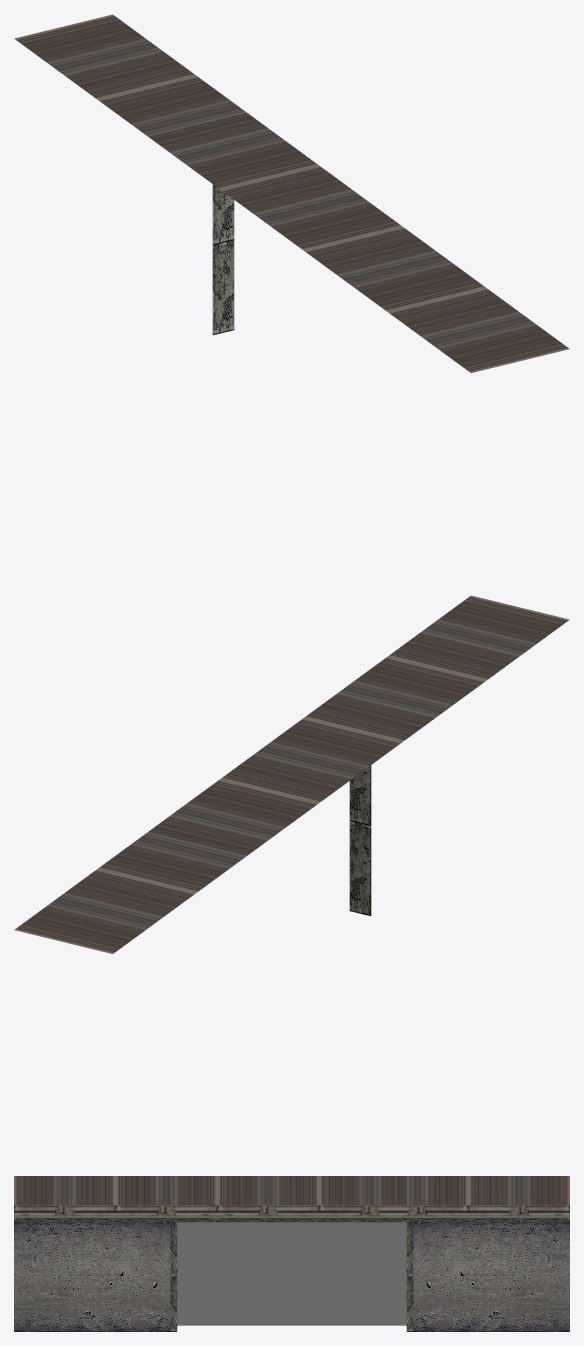
The model's file is M10_Z1_TunnelGate03.glb.
3 views of the same model, one above another, from view 1: azimuth 30°, elevation 25°; view 2: azimuth 150°, elevation 25°; view 3: azimuth 270°, elevation 25° (orthographic). The views are drawn at different scales.
Parts seen in each view (by area): view 1: M10_Z1_TUNNELGATE03; view 2: M10_Z1_TUNNELGATE03; view 3: M10_Z1_TUNNELGATE03.
Part boxes in pixels (left/top/right/bottom): M10_Z1_TUNNELGATE03: left=14, top=14, right=569, bottom=372; M10_Z1_TUNNELGATE03: left=14, top=595, right=569, bottom=953; M10_Z1_TUNNELGATE03: left=14, top=1176, right=569, bottom=1331.
Size of the model in its own units: 2.3 by 4.76 by 18.41.
5 materials, 4 textured.
